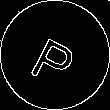P_NE: (27, 24, 83, 86)
